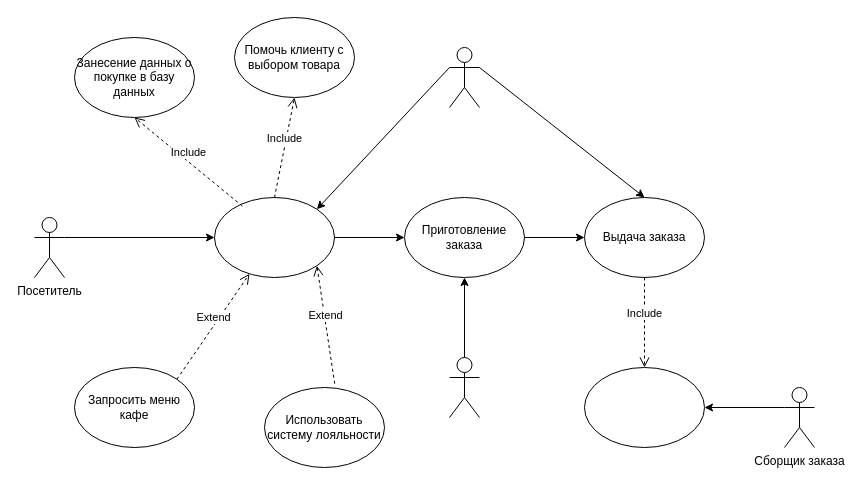
The diagram is 862 pixels wide and 486 high, and some of its shapes have lost their labels. The centre of each missing label's shape, as x and y in pixels:
"Кассир" belongs at [464,77].
"Оформить заказ на покупку" belongs at [274,237].
"Повар" belongs at [464,387].
"Собрать заказ" belongs at [644,407].
